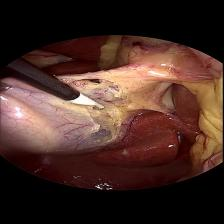Hook: (71, 90, 107, 110)
